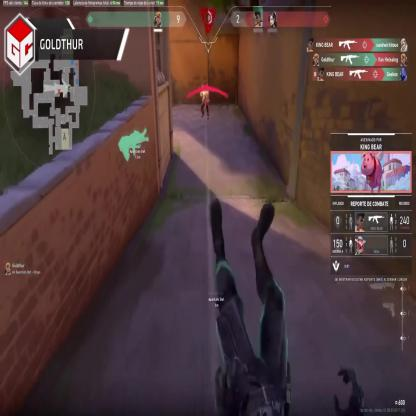enemy: (199, 81, 210, 116)
enemy_head: (203, 79, 207, 85)
